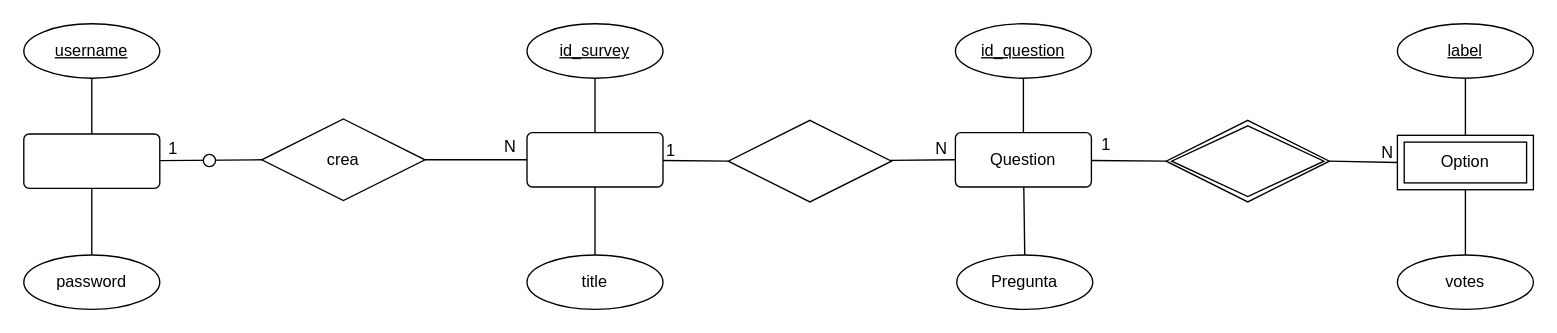
The diagram is 1557 pixels wide and 333 high, and some of its shapes have lost their labels. Each missing label, with the centre of its shape:
"compuesto por" goes at (x=809, y=160).
"Survey" goes at (x=594, y=159).
"tiene" goes at (x=1247, y=160).
"Usuario" goes at (x=91, y=160).
